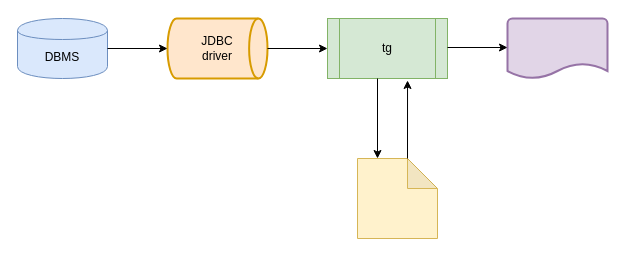
Some shapes in this 626 by 256 pixel diagram are drawn without their labels. Each missing label, with the box of its shape:
test data: (506, 17, 608, 79)
tg schema: (356, 158, 438, 238)
